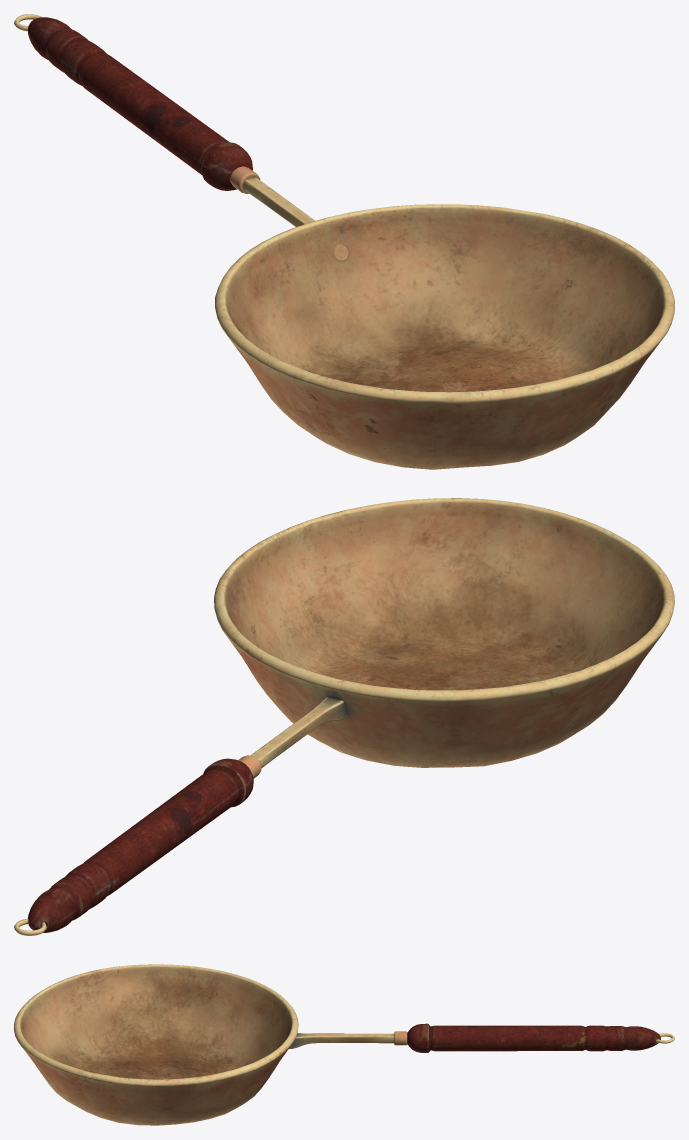
Rendered from brass_pan_01.glb.
3 renders of one model, top to bottom at view 1: azimuth 30°, elevation 25°; view 2: azimuth 150°, elevation 25°; view 3: azimuth 270°, elevation 25°, orthographic. The views are drawn at different scales.
Visible parts, largest first — view 1: brass_pan_01; view 2: brass_pan_01; view 3: brass_pan_01.
Boxes of the visible parts, box(x1,y1,x2,y2) form: brass_pan_01: box(14, 14, 674, 469); brass_pan_01: box(14, 498, 674, 935); brass_pan_01: box(14, 964, 674, 1125).
Bounding box in the file's own units: 0.1913 × 0.0525 × 0.4497.
1 material, 1 textured.
